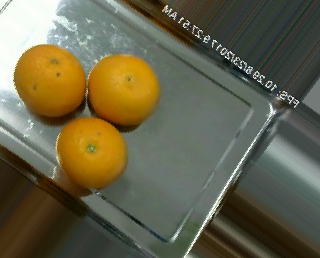Orange: (13, 44, 87, 117), (54, 116, 128, 189), (87, 53, 159, 125)
